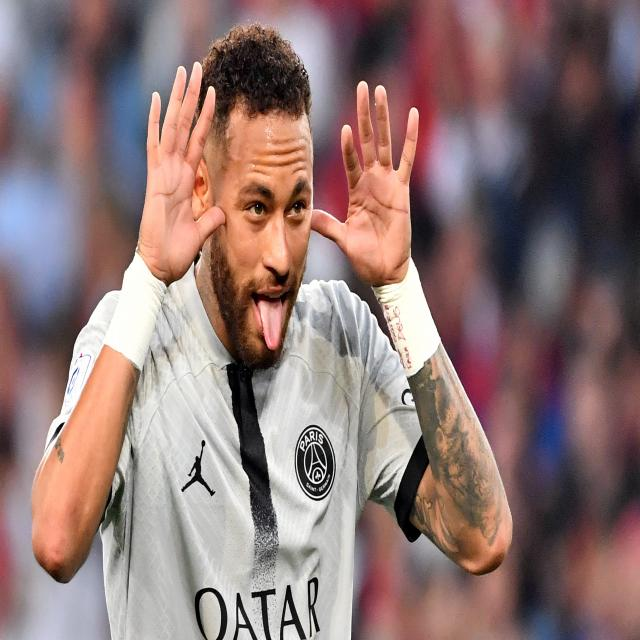neymar: (190, 34, 318, 369)
